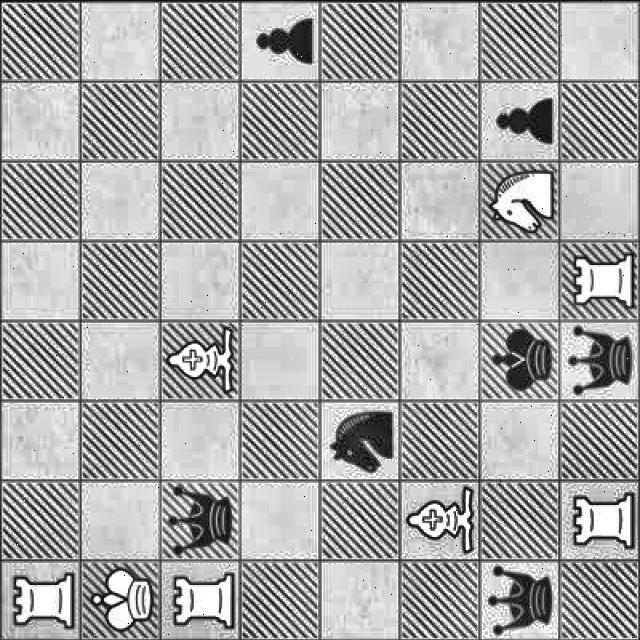Black Knight: (321, 404, 401, 475)
black king: (483, 321, 562, 397)
black pawn: (243, 12, 320, 64), (484, 94, 556, 144)
black queen: (162, 484, 238, 558), (568, 321, 638, 398), (484, 562, 554, 638)
white bishop: (406, 479, 479, 557), (164, 324, 237, 395)
white king: (83, 566, 157, 632)
white rook: (564, 484, 640, 554), (8, 565, 78, 635), (168, 564, 238, 634), (566, 248, 640, 308)
whiteknight: (481, 164, 558, 237)
